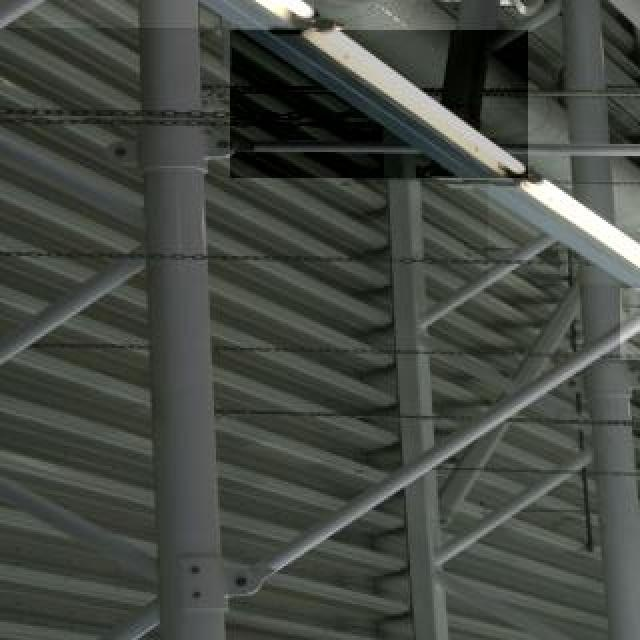fluorescent tube: (257, 26, 539, 178), (492, 162, 640, 300), (0, 0, 326, 26)
